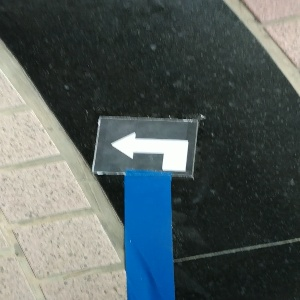left: (93, 115, 197, 178)
